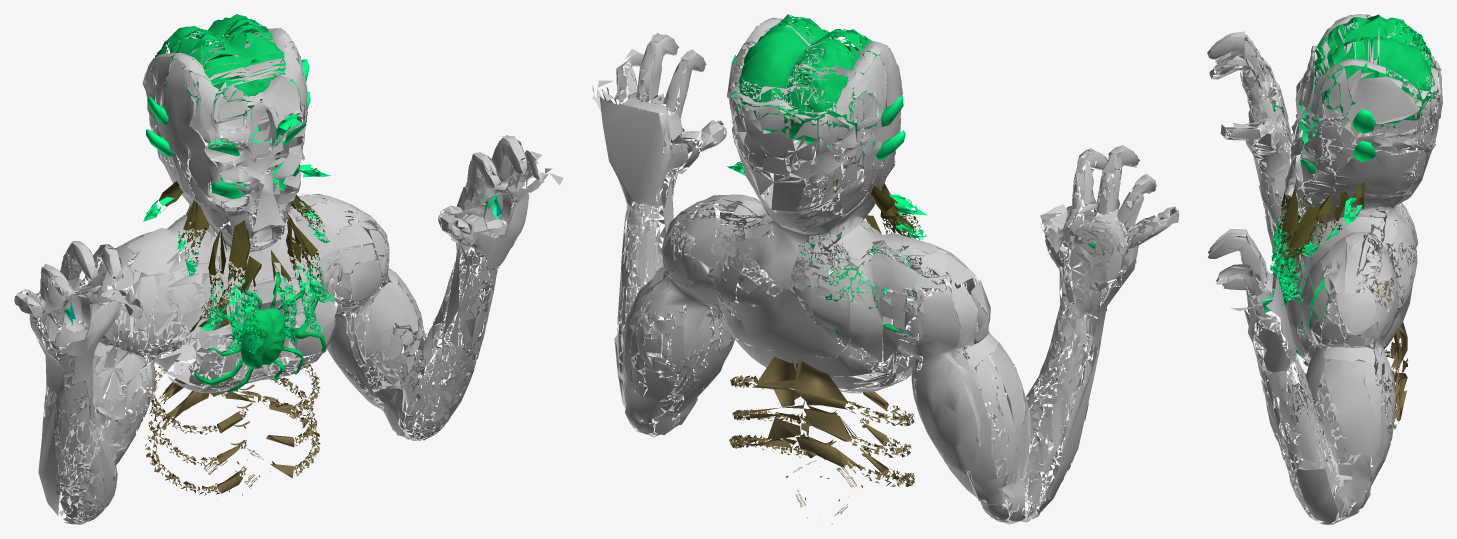
The model's file is moon_lord.obj.
3 renders of one model, left to right at view 1: azimuth 30°, elevation 25°; view 2: azimuth 150°, elevation 25°; view 3: azimuth 270°, elevation 25°, orthographic. The views are drawn at different scales.
Parts seen in each view (by area): view 1: Object_26, Object_24, Object_22, Object_32, Object_25, Object_31, Object_27, Object_23, Object_4, Object_28, Object_30, Object_50 (+17 smaller); view 2: Object_33, Object_19, Object_20, Object_30, Object_23, Object_4, Object_32, Object_18, Object_27, Object_16, Object_31, Object_36 (+13 smaller); view 3: Object_18, Object_16, Object_17, Object_21, Object_25, Object_20, Object_19, Object_22, Object_23, Object_36, Object_26, Object_50 (+15 smaller).
Boxes of the visible parts, x1,y1,x2,y2 form: Object_26: [152, 200, 459, 436]; Object_24: [188, 205, 498, 440]; Object_22: [55, 42, 545, 495]; Object_32: [41, 56, 259, 497]; Object_25: [104, 187, 529, 440]; Object_31: [14, 157, 255, 505]; Object_27: [104, 76, 337, 392]; Object_23: [249, 110, 563, 397]; Object_4: [145, 289, 320, 495]; Object_28: [57, 282, 193, 522]; Object_30: [16, 254, 132, 522]; Object_50: [158, 152, 324, 309]; Object_33: [785, 69, 1006, 519]; Object_19: [629, 199, 858, 414]; Object_20: [641, 173, 902, 435]; Object_30: [1022, 153, 1168, 520]; Object_23: [592, 80, 875, 374]; Object_4: [729, 303, 915, 486]; Object_32: [844, 46, 1153, 519]; Object_18: [622, 126, 813, 437]; Object_27: [775, 116, 975, 385]; Object_16: [727, 41, 1023, 422]; Object_31: [857, 151, 1178, 475]; Object_36: [739, 25, 863, 143]; Object_18: [1313, 114, 1435, 524]; Object_16: [1304, 54, 1442, 265]; Object_17: [1300, 14, 1441, 217]; Object_21: [1216, 196, 1394, 470]; Object_25: [1216, 55, 1351, 524]; Object_20: [1296, 149, 1423, 507]; Object_19: [1321, 204, 1417, 466]; Object_22: [1208, 46, 1379, 424]; Object_23: [1230, 113, 1341, 490]; Object_36: [1379, 15, 1435, 129]; Object_26: [1227, 179, 1350, 496]; Object_50: [1277, 134, 1364, 276].
Bounding box in the file's own units: 5.13 × 4.26 × 2.03.
